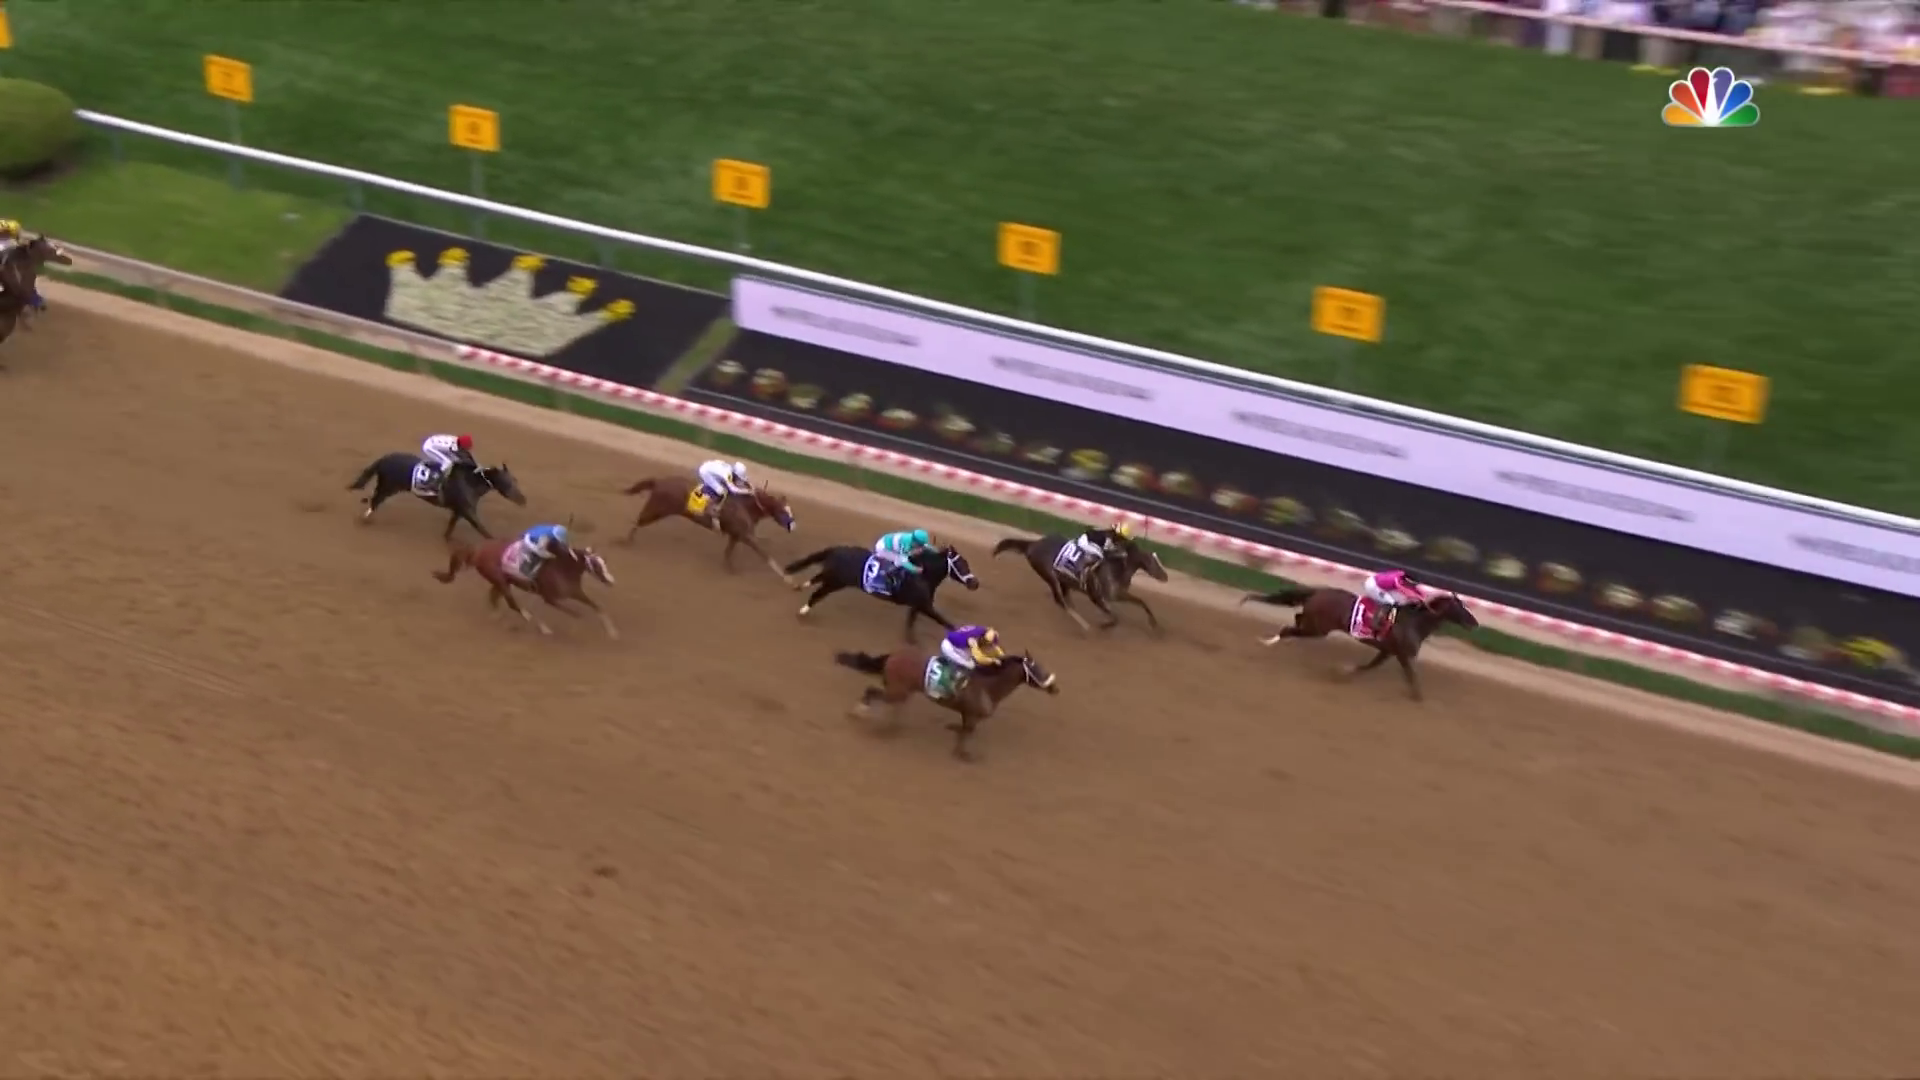jockey: (938, 626, 1004, 684), (516, 520, 576, 578), (694, 456, 749, 520), (869, 525, 931, 579), (1072, 521, 1126, 582), (1366, 568, 1420, 624), (419, 426, 476, 477)
